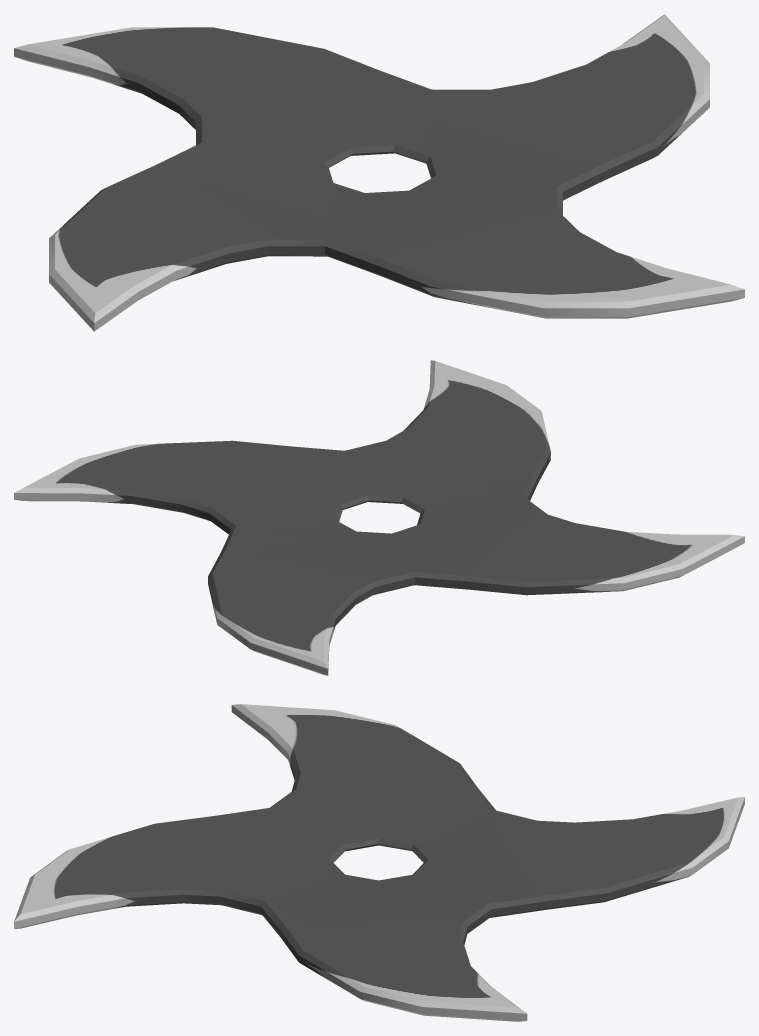
Rendered from Syueiken.fbx.
3 renders of one model, top to bottom at view 1: azimuth 30°, elevation 25°; view 2: azimuth 150°, elevation 25°; view 3: azimuth 270°, elevation 25°, orthographic. The views are drawn at different scales.
Visible parts, largest first — view 1: Syuriken_Mesh; view 2: Syuriken_Mesh; view 3: Syuriken_Mesh.
Part boxes in pixels (box(x1,y1,x2,y2)): Syuriken_Mesh: box(14, 14, 744, 331); Syuriken_Mesh: box(14, 360, 744, 675); Syuriken_Mesh: box(14, 704, 744, 1021).
Bounding box in the file's own units: 36.51 × 0.7906 × 36.51.
Materials: 1 (1 with a texture image).
